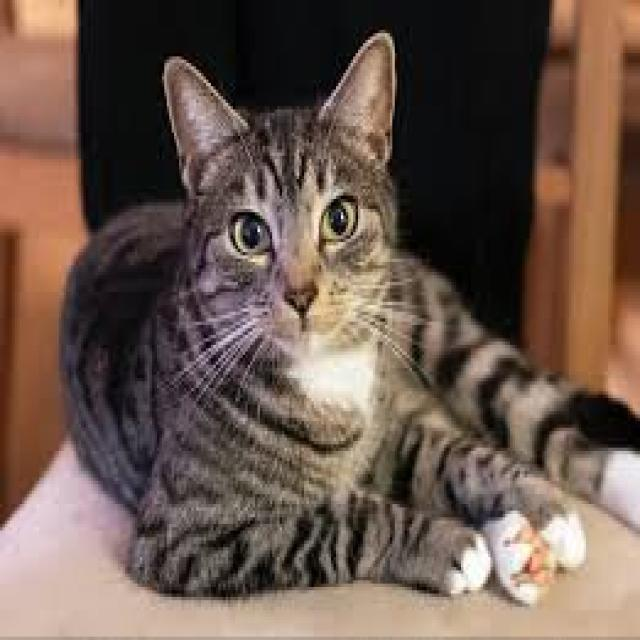cat: (198, 125, 399, 387)
